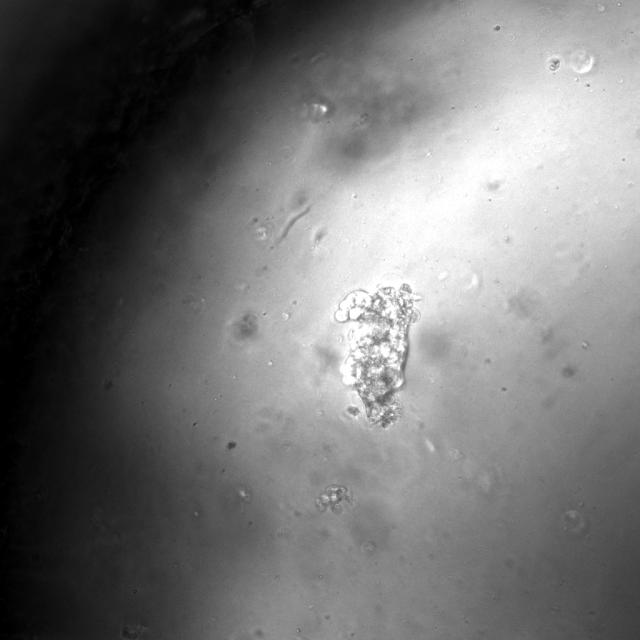organoid: (335, 283, 419, 427), (315, 484, 356, 514)
